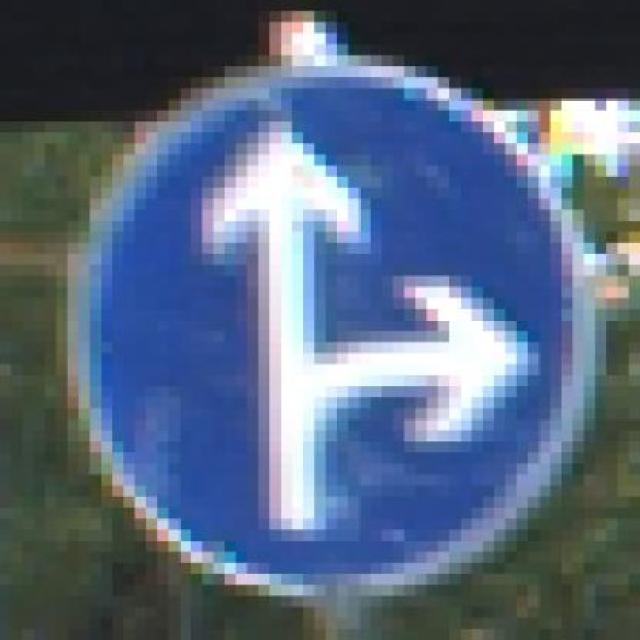Go Straight or Turn Right: (45, 56, 606, 618)
